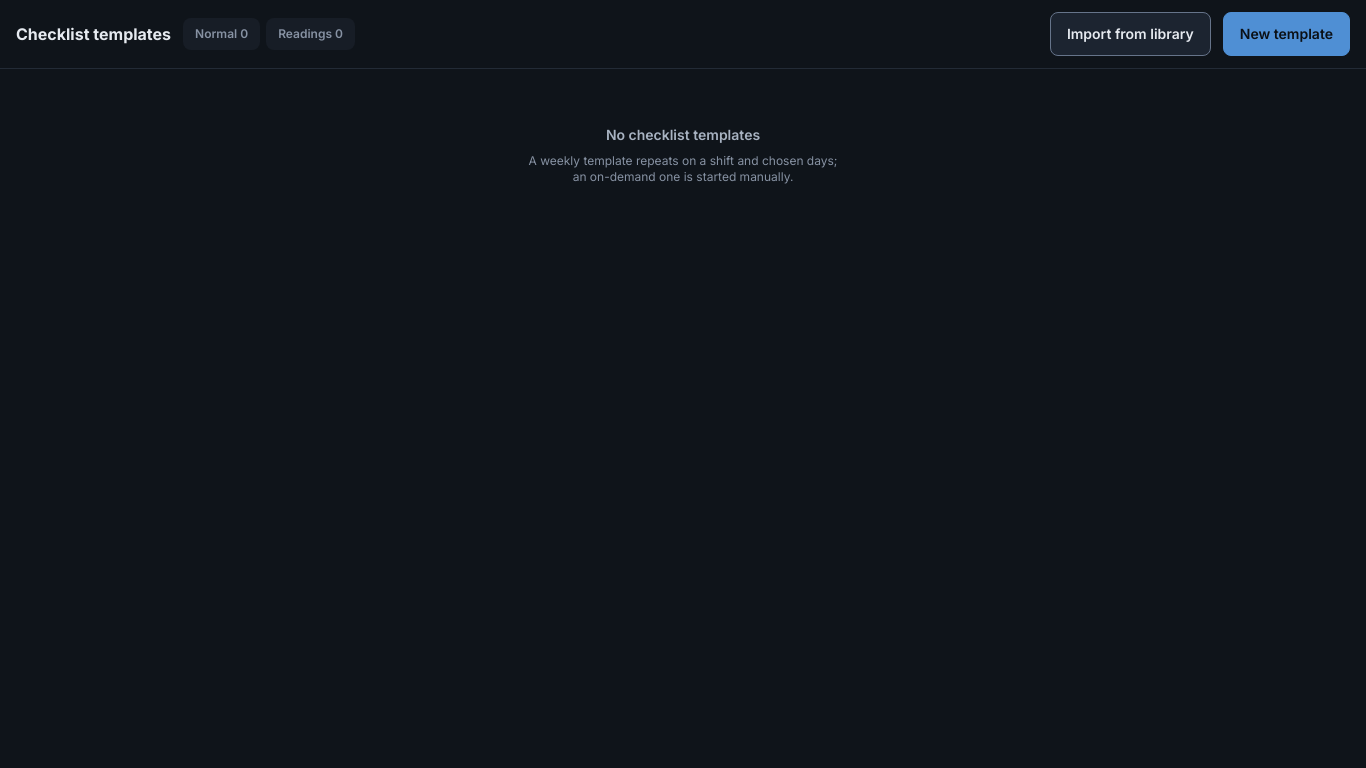
Scenario: Import from library › shows a refused import inside the dialog
What coordinates should you click on to do the following:
click the button "Import from library"
I would click on:
 (1130, 34)
Its box is [1050,12,1211,56].
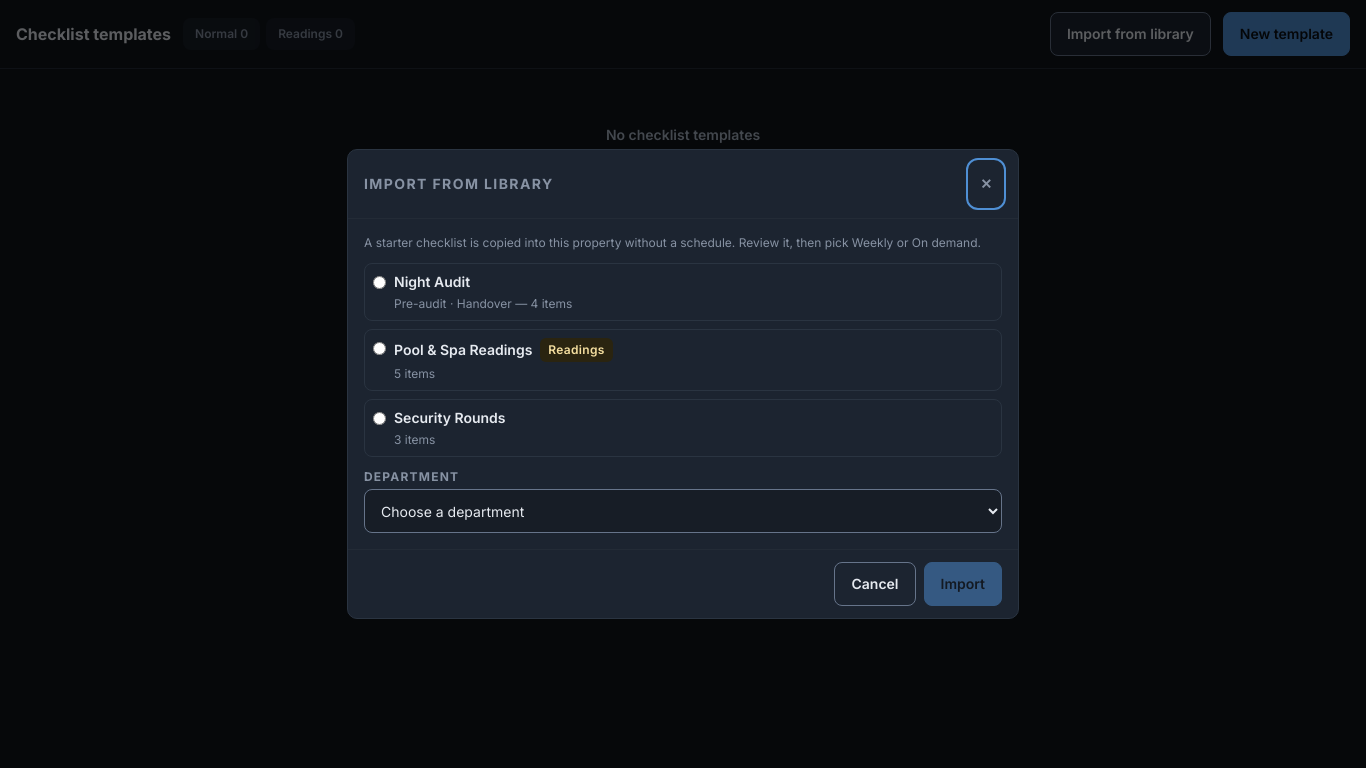
What coordinates should you click on to do the following:
click the radio button labelled "Night Audit Pre-audit · Handover — 4 items"
I would click on:
 (380, 282)
Its box is [373,276,386,289].
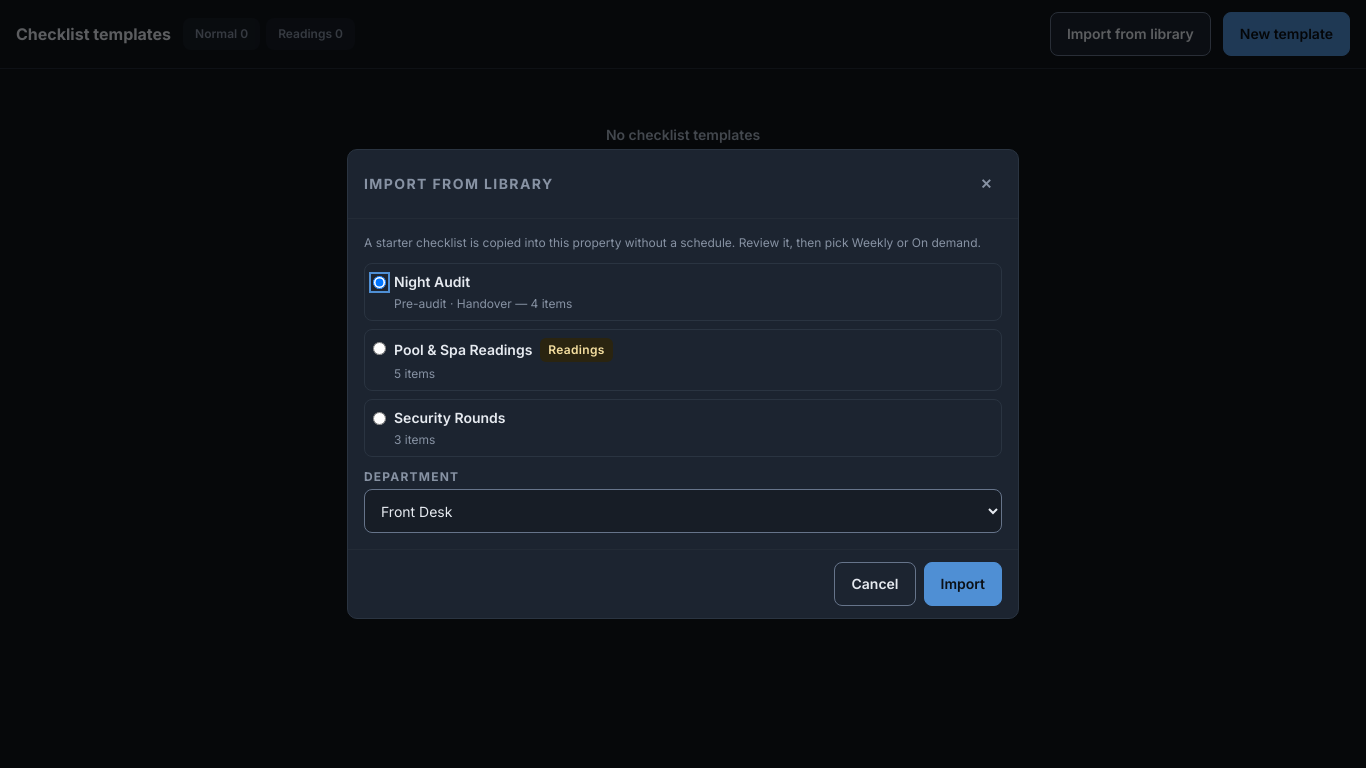
What coordinates should you click on to do the following:
click the button "Import"
I would click on:
 (963, 584)
Its box is [924,562,1002,606].
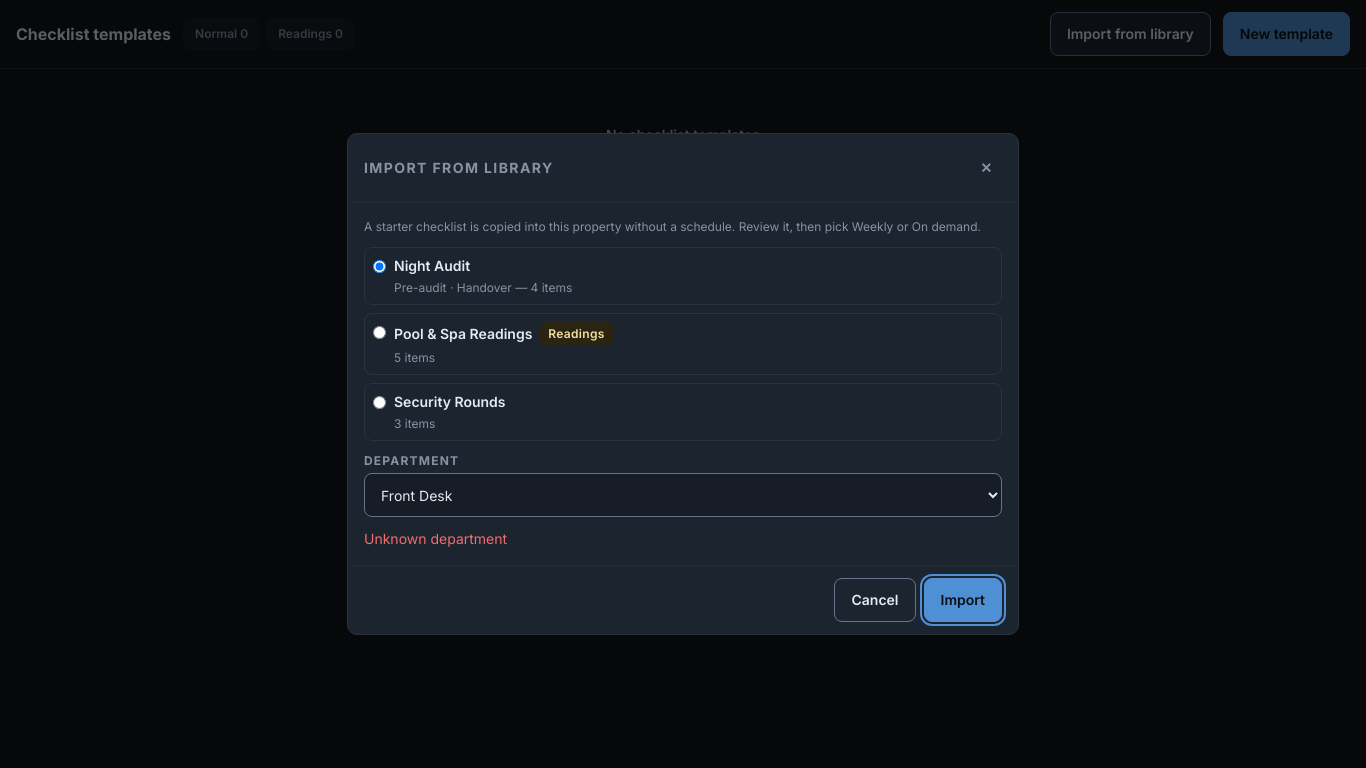
Now the dialog "Import from library" is shown, box [347,133,1019,635]
Now the message reads "Unknown department", box [364,530,507,547]
